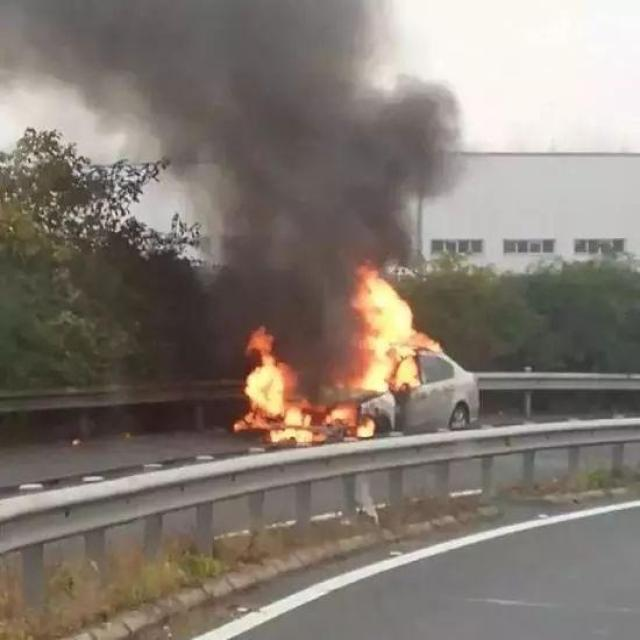Fire: (232, 265, 444, 447)
Smoke: (2, 1, 469, 409)
